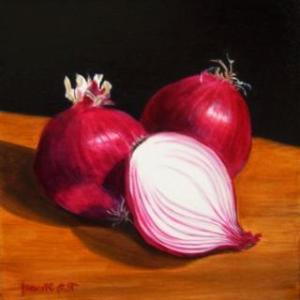onion: (31, 69, 151, 227), (126, 130, 252, 260), (142, 63, 252, 181)
